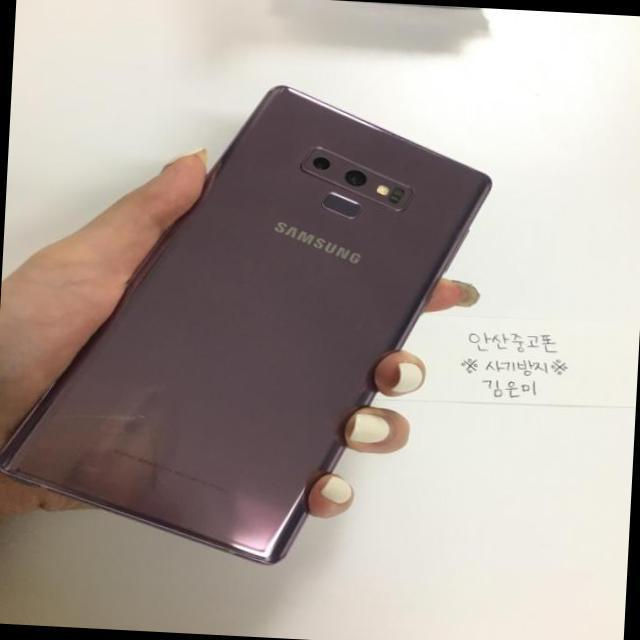phone good: (5, 11, 504, 599)
